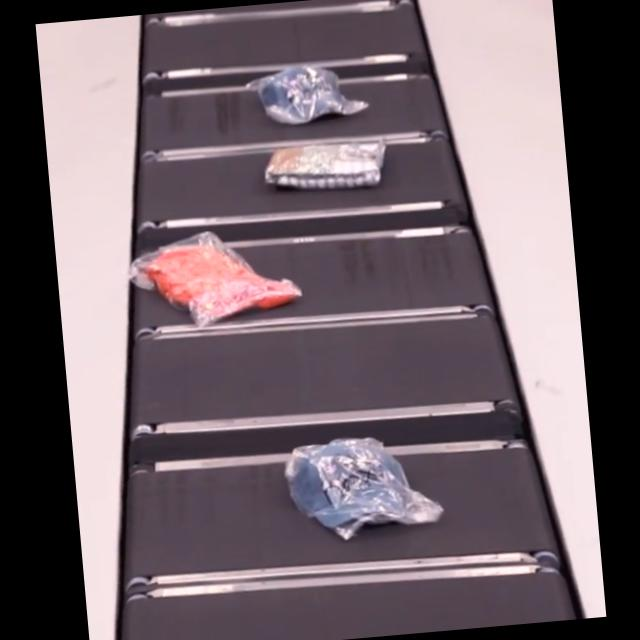mailer: (130, 222, 300, 330), (284, 430, 442, 544), (264, 135, 384, 195), (254, 62, 368, 125)
